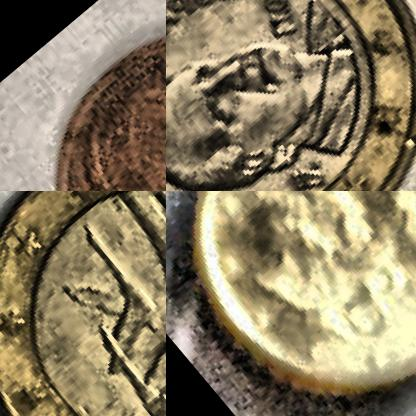coin: (166, 191, 415, 415), (166, 0, 415, 190), (0, 191, 165, 415), (0, 0, 165, 190)
